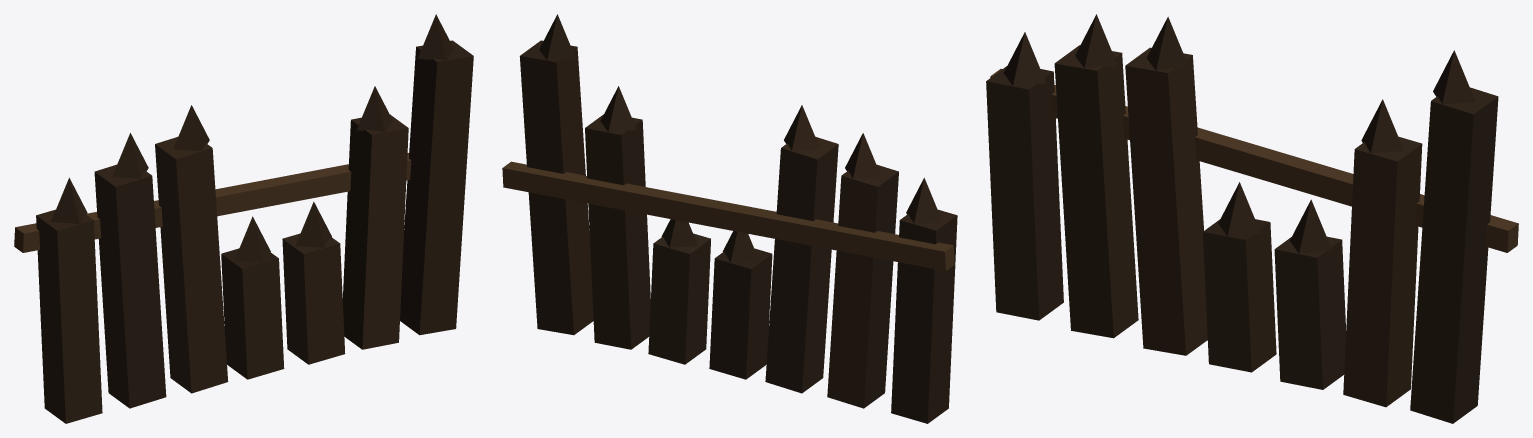
The model's file is palisade.glb.
3 views of the same model, side by side, from view 1: azimuth 30°, elevation 25°; view 2: azimuth 150°, elevation 25°; view 3: azimuth 330°, elevation 25° (orthographic). The views are drawn at different scales.
Parts seen in each view (by area): view 1: Palisade; view 2: Palisade; view 3: Palisade.
Part boxes in pixels (x1,y1,x2,y2): Palisade: (14, 14, 473, 423); Palisade: (502, 14, 957, 423); Palisade: (986, 14, 1518, 423).
Size of the model in its own units: 2.9 by 1.94 by 0.31.
